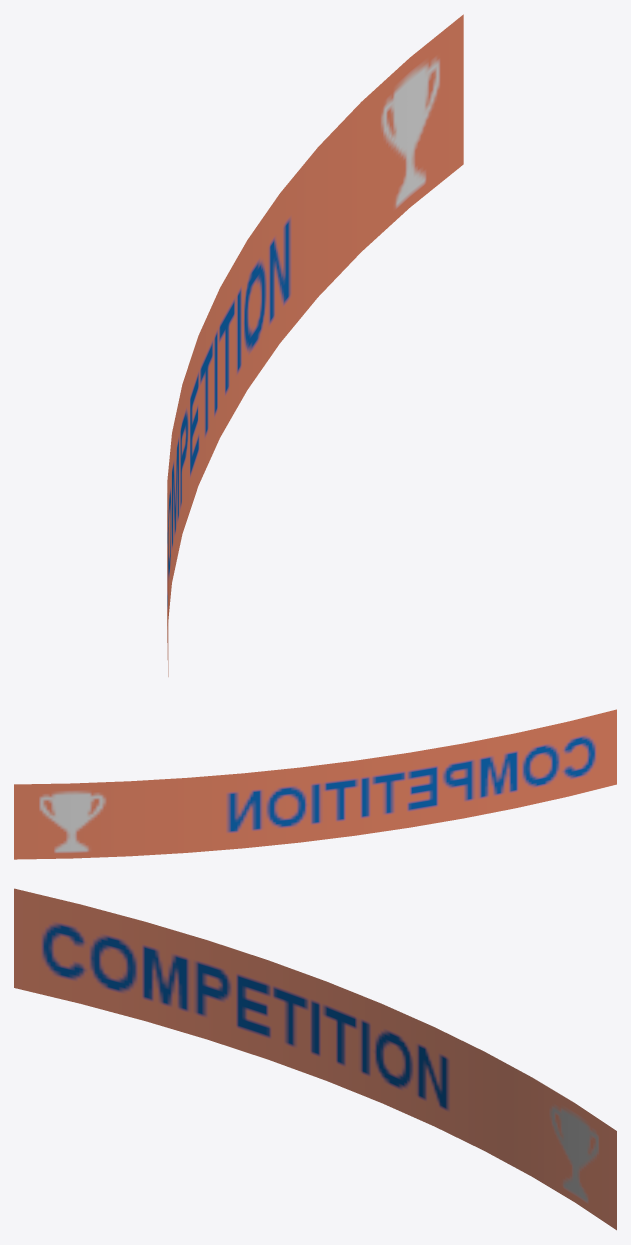
File: competition_selected.glb
3 renders of one model, top to bottom at view 1: azimuth 30°, elevation 25°; view 2: azimuth 150°, elevation 25°; view 3: azimuth 270°, elevation 25°, orthographic. The views are drawn at different scales.
Parts seen in each view (by area): view 1: menu_1_op_2_competition; view 2: menu_1_op_2_competition; view 3: menu_1_op_2_competition.
Part boxes in pixels (<box>): menu_1_op_2_competition: <box>167,14,463,676</box>; menu_1_op_2_competition: <box>14,709,616,859</box>; menu_1_op_2_competition: <box>14,888,616,1230</box>.
Bounding box in the file's own units: 2.66 × 0.509 × 2.8.
Materials: 1 (1 with a texture image).
